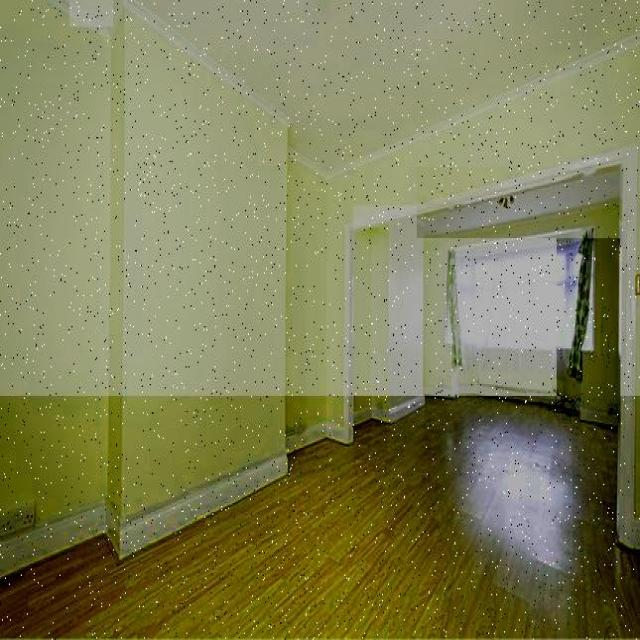Wall: (0, 0, 640, 575), (0, 397, 640, 639), (139, 1, 639, 170), (353, 206, 618, 423), (417, 167, 620, 238), (557, 205, 620, 426), (70, 0, 113, 27)
